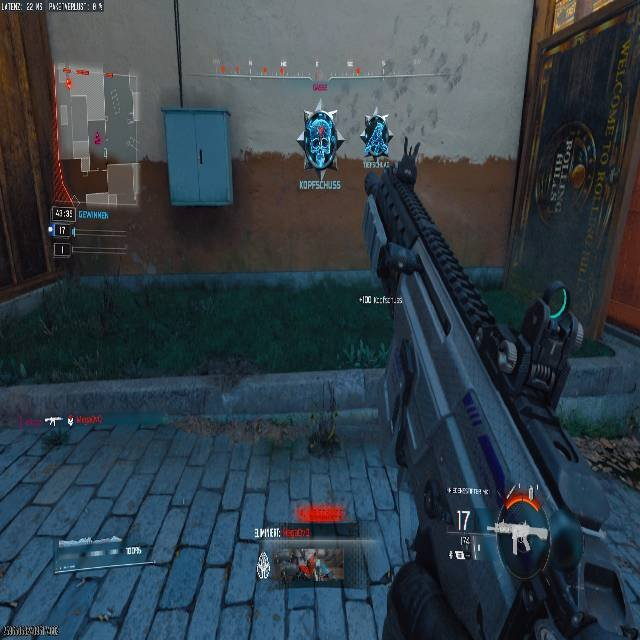head: (543, 281, 568, 310), (367, 111, 384, 126)
player: (296, 109, 337, 170), (362, 112, 391, 164)
